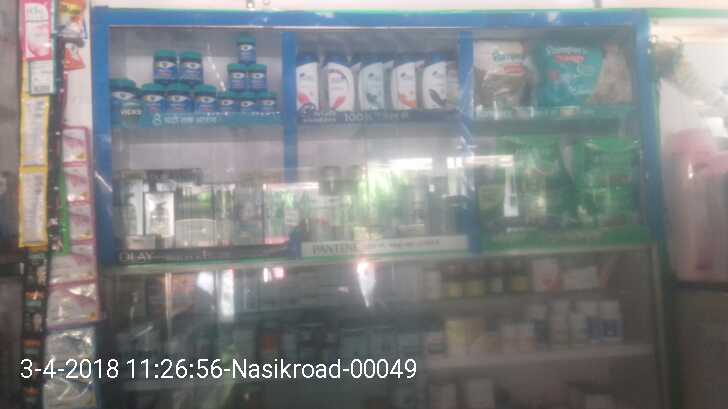vicks: (110, 27, 278, 114)
